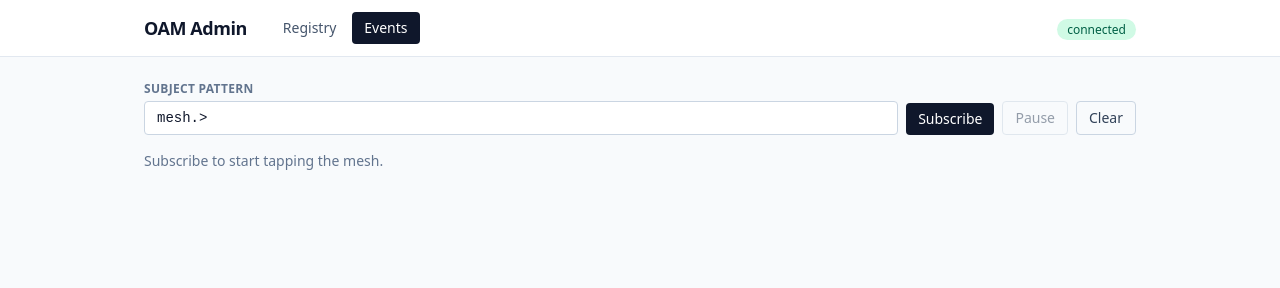
event feed screen › marks error-envelope events
What coordinates should you click on to do the following:
click the button "Subscribe"
I would click on:
 (950, 119)
Its box is [906, 103, 994, 135].
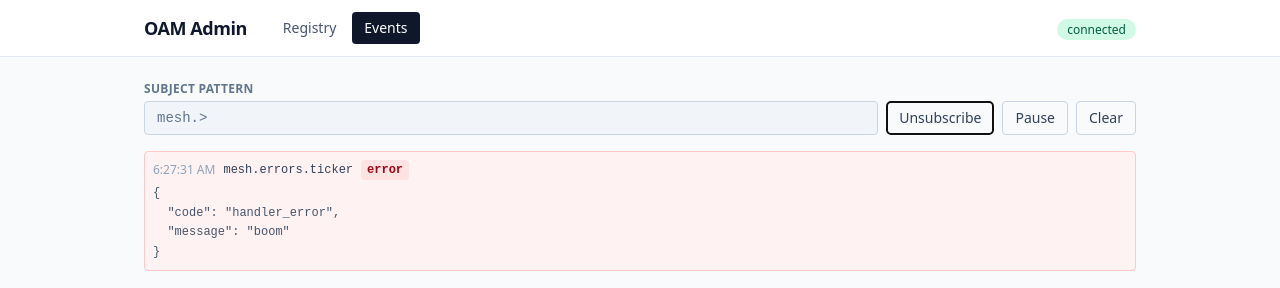
Expected: the list item "mesh.errors.ticker" is shown, [223, 163, 353, 177]
